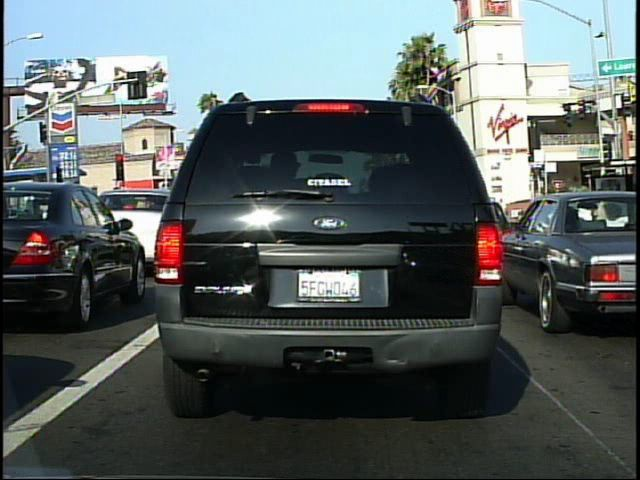person: (590, 183, 612, 252), (495, 195, 510, 227)
